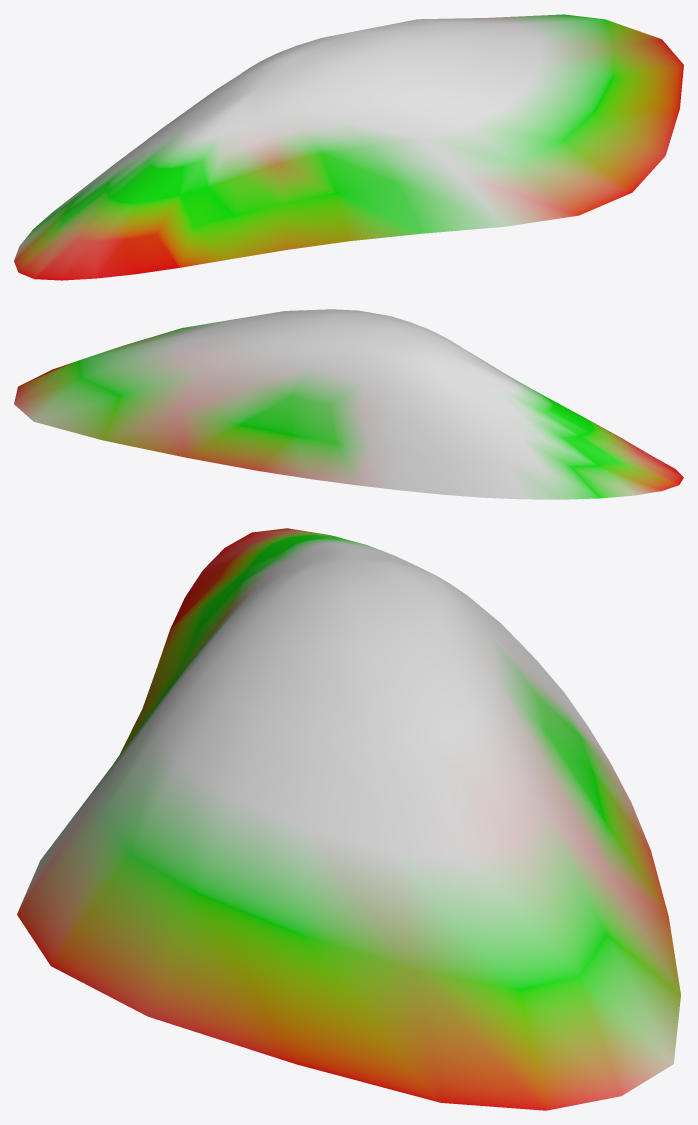
Rendered from Terrain_05.fbx.
The picture shows the model from 3 angles, top to bottom: view 1: azimuth 30°, elevation 25°; view 2: azimuth 150°, elevation 25°; view 3: azimuth 270°, elevation 25°; orthographic projection. The views are drawn at different scales.
Parts seen in each view (by area): view 1: Sphere.006; view 2: Sphere.006; view 3: Sphere.006.
Part boxes in pixels (x1,y1,x2,y2): Sphere.006: (14,14,683,280); Sphere.006: (14,309,683,499); Sphere.006: (17,528,680,1110).
Size of the model in its own units: 80.39 by 12.93 by 38.74.
